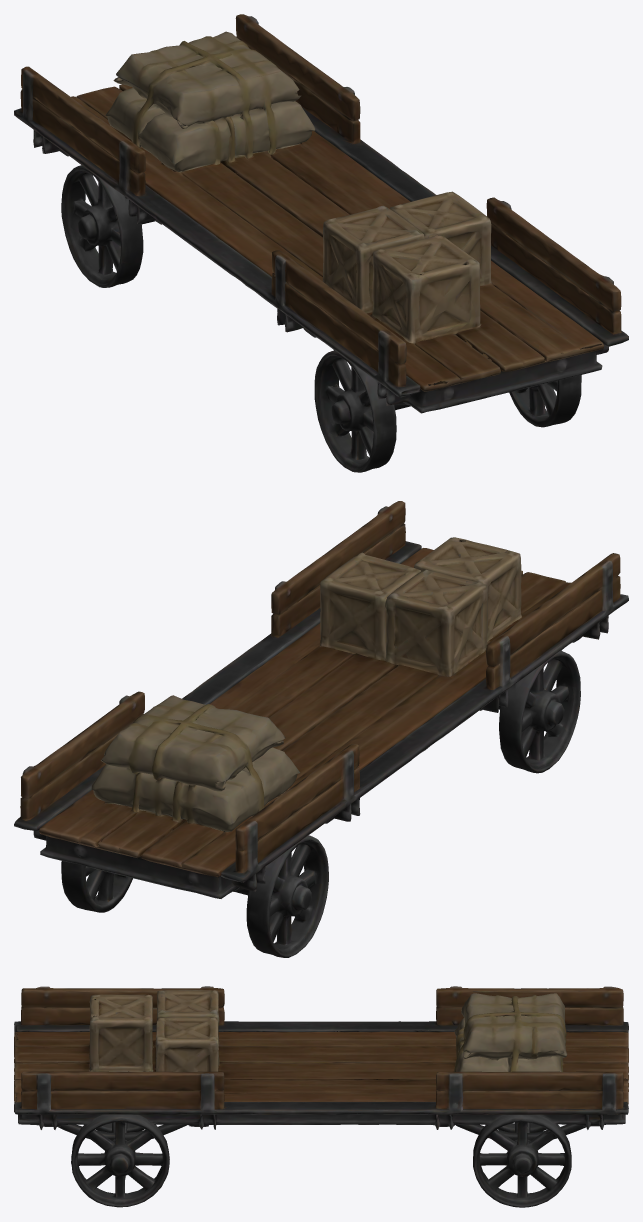
The model's file is carro_plano.glb.
3 renders of one model, top to bottom at view 1: azimuth 30°, elevation 25°; view 2: azimuth 150°, elevation 25°; view 3: azimuth 270°, elevation 25°, orthographic. The views are drawn at different scales.
Visible parts, largest first — view 1: geometry_0; view 2: geometry_0; view 3: geometry_0.
Part boxes in pixels (x1,y1,x2,y2): geometry_0: (14, 14, 628, 472); geometry_0: (14, 501, 628, 957); geometry_0: (14, 986, 628, 1207).
Bounding box in the file's own units: 0.3476 × 0.2891 × 1.
1 material, 1 textured.
